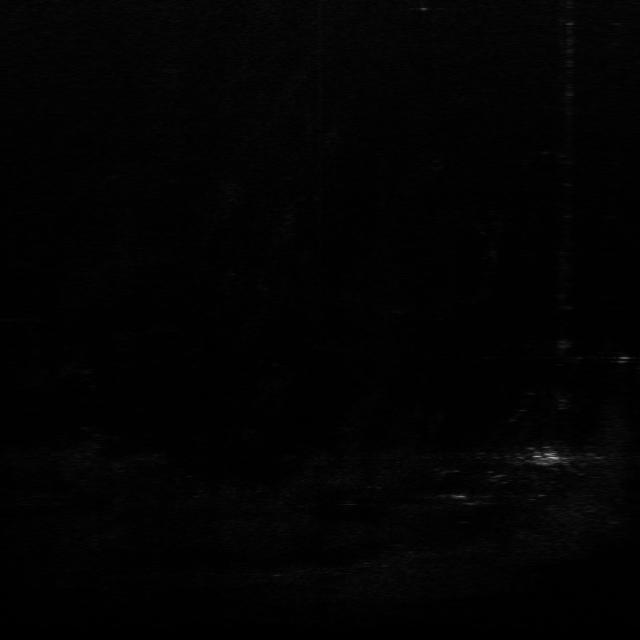rov: (527, 449, 567, 467)
